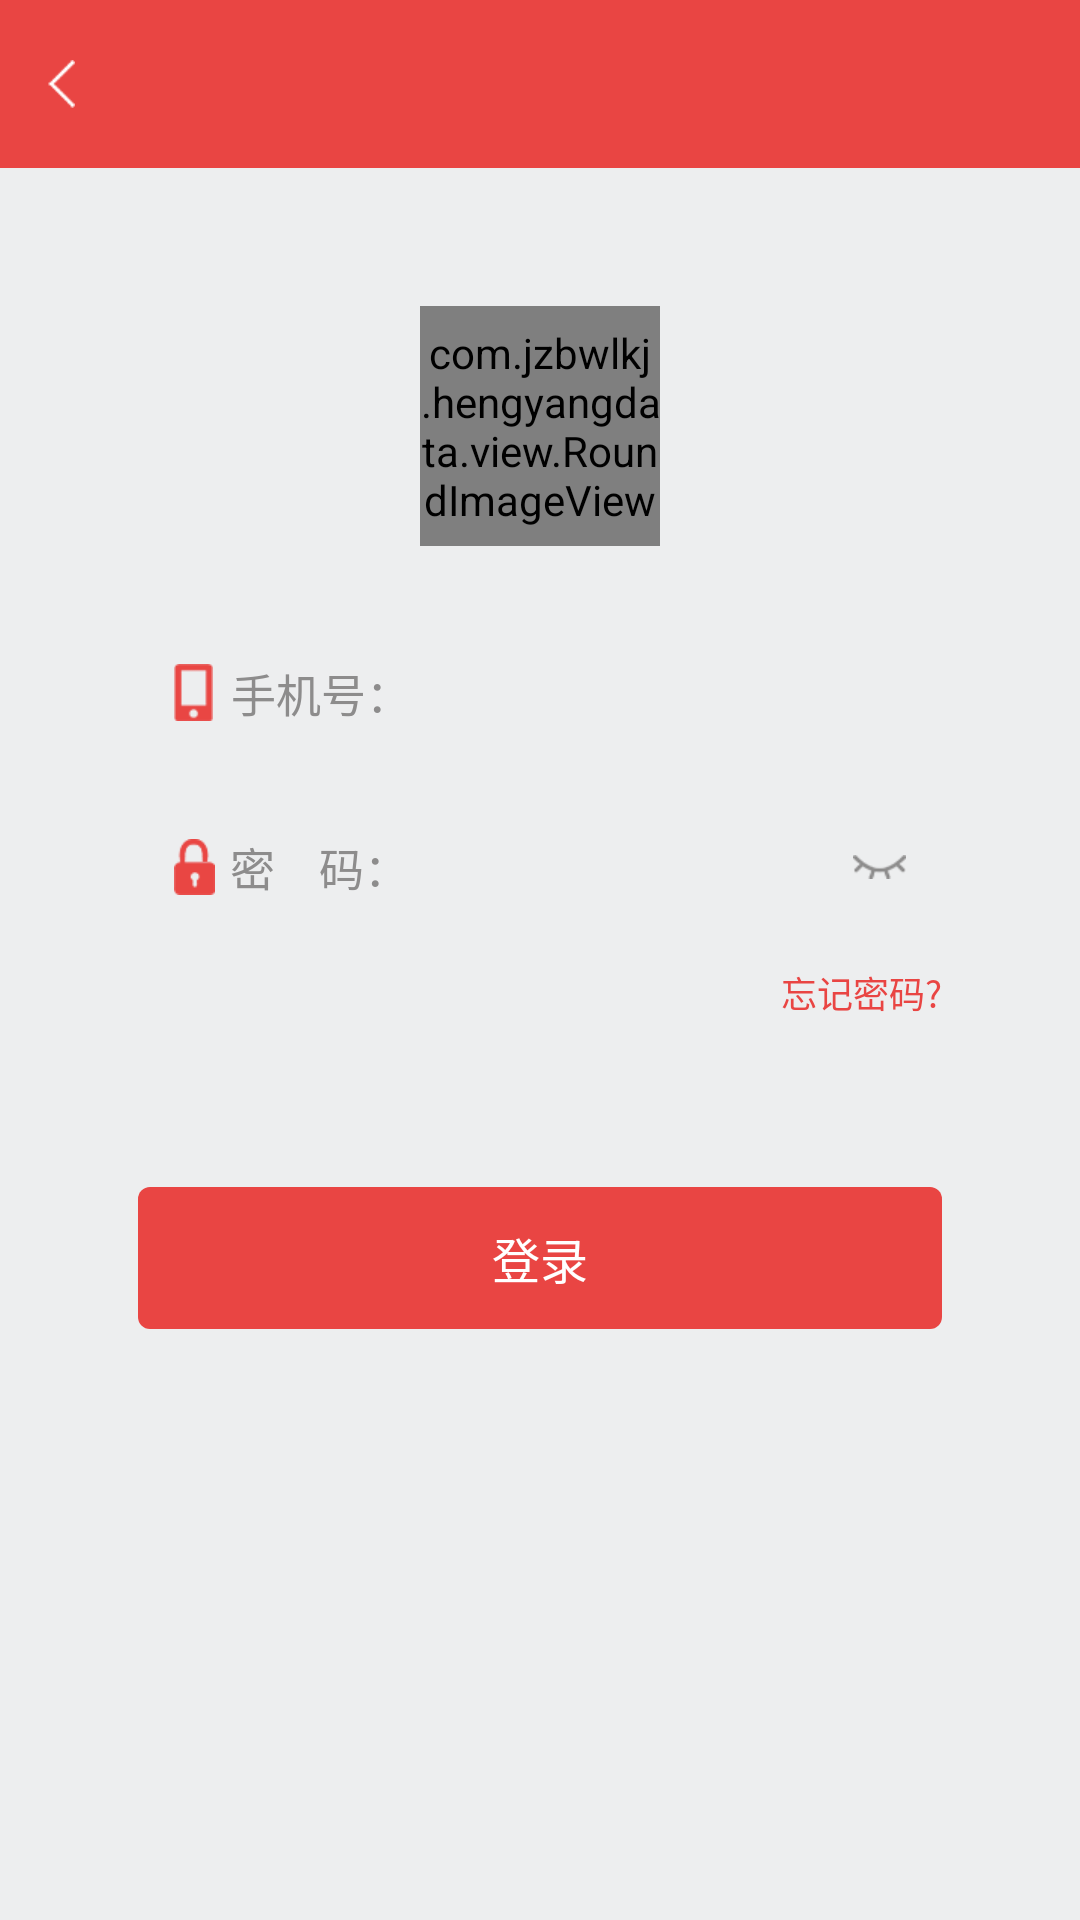

Icon click points for this 1080x1920 phone screenshot, format [x,y]:
back: [61,84]
yanjingbi: [879,867]
